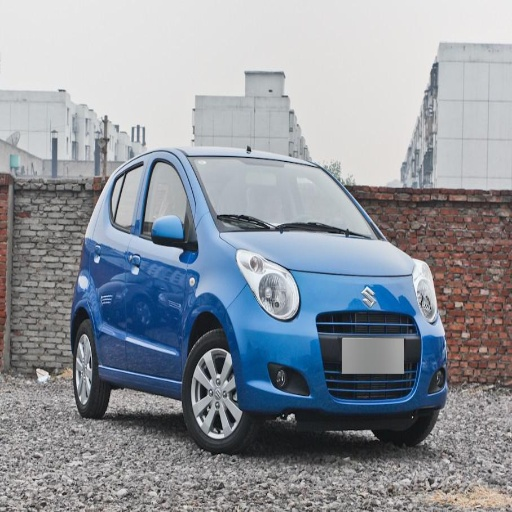front_bumper: (235, 270, 446, 431)
front_right_door: (126, 152, 194, 379)
front_right_light: (239, 253, 300, 319)
